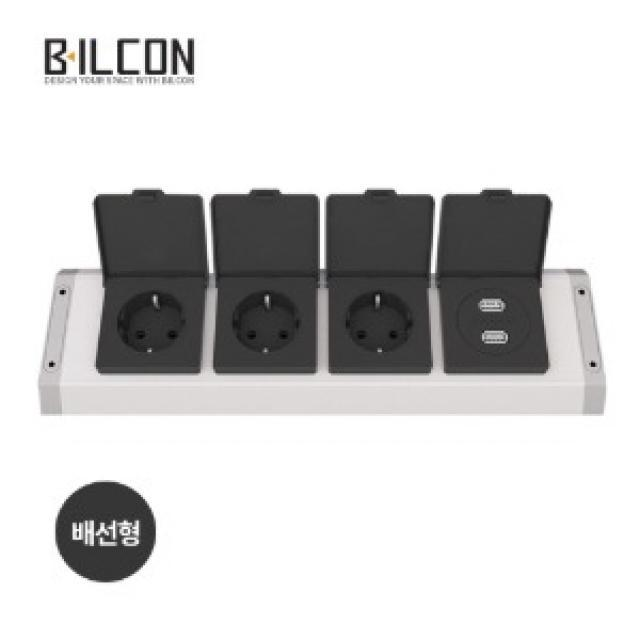typeb: (318, 175, 444, 388), (209, 266, 321, 386), (98, 268, 209, 388)
